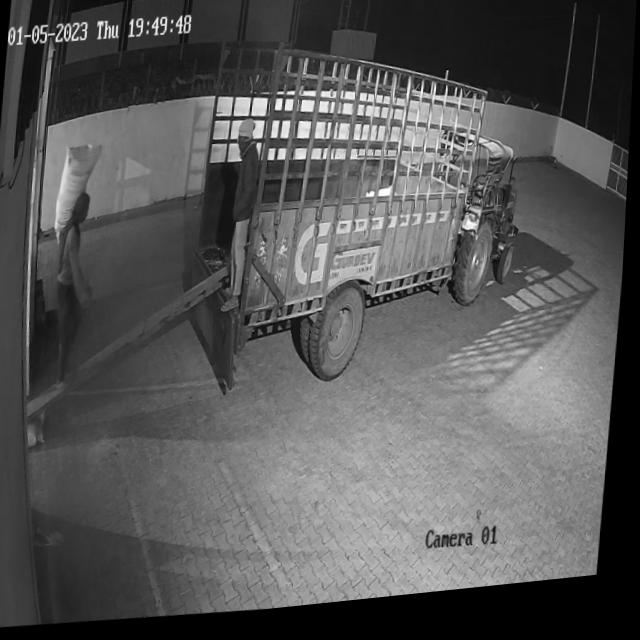sack: (55, 145, 105, 245)
